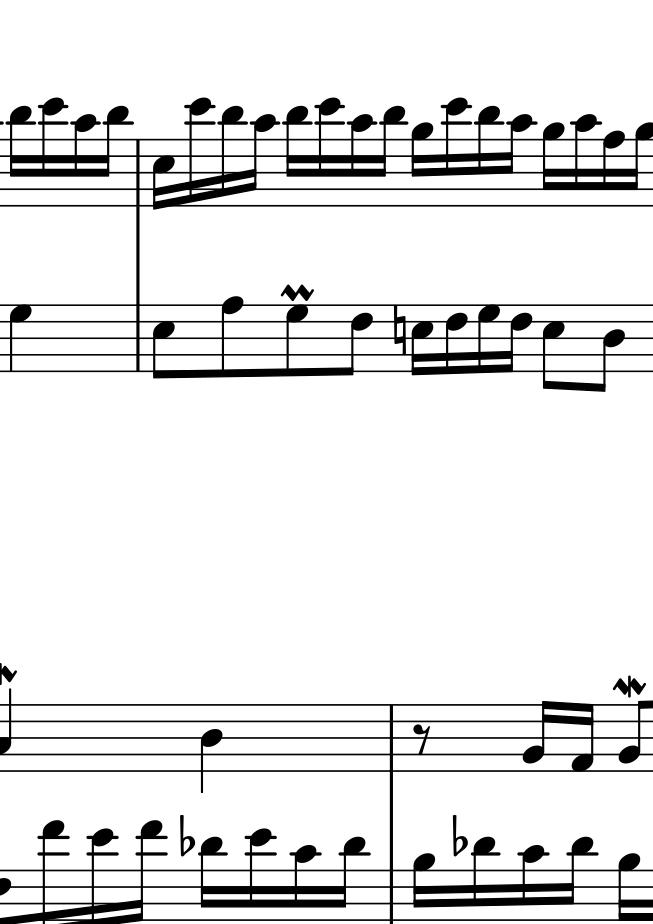16_1: (569, 703, 595, 774)
16_10: (504, 112, 536, 209), (246, 114, 278, 210), (572, 114, 602, 209), (348, 113, 375, 209), (71, 112, 96, 209)
16_11: (97, 104, 132, 210), (376, 104, 406, 210), (7, 105, 35, 209), (218, 105, 245, 209), (283, 105, 310, 209), (474, 105, 501, 208)
16_12: (40, 98, 69, 210), (185, 96, 213, 210), (316, 96, 343, 208), (443, 96, 469, 209)
16_2: (521, 699, 552, 773)
16_5: (151, 137, 177, 212), (410, 303, 433, 380)
16_6: (504, 303, 534, 375), (444, 303, 469, 376)
16_7: (474, 303, 501, 375)
16_8: (599, 127, 623, 209)
16_9: (411, 121, 439, 208), (541, 121, 568, 209), (628, 122, 653, 209)
4_4: (199, 703, 224, 792)
4_7: (8, 303, 33, 375)
8_2: (618, 700, 648, 776)
8_4: (595, 302, 626, 394)
8_5: (540, 303, 565, 391), (150, 303, 175, 382)
8_6: (338, 303, 372, 376)
8_7: (283, 303, 310, 379)
8_8: (219, 294, 244, 383)
Flat: (179, 813, 196, 856), (451, 813, 466, 858)
Mordent: (611, 675, 650, 699)
Natural: (391, 304, 406, 358)
Rests8: (413, 722, 431, 755)
ShortTrill: (280, 281, 318, 303)
Single_barline: (129, 305, 147, 373), (382, 704, 400, 769), (130, 139, 146, 206)
